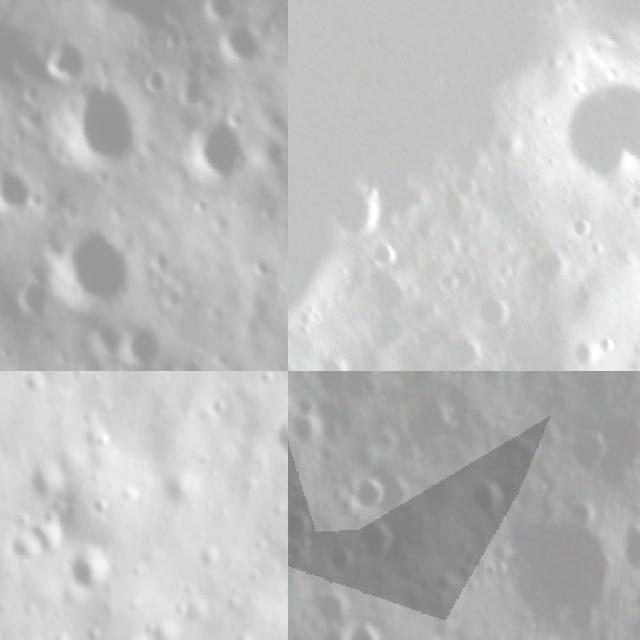crater: (496, 501, 626, 637), (67, 87, 139, 166), (53, 238, 130, 307), (322, 170, 393, 243), (187, 109, 238, 185), (560, 418, 616, 484), (354, 517, 405, 571), (468, 283, 512, 339), (66, 549, 119, 595), (304, 582, 355, 628), (524, 239, 570, 288), (342, 470, 389, 516), (565, 323, 609, 371), (288, 408, 331, 457), (611, 515, 640, 586), (217, 28, 262, 71), (438, 173, 480, 215), (34, 42, 82, 78), (7, 281, 50, 321), (288, 499, 319, 553), (121, 329, 165, 367), (423, 263, 463, 301), (318, 537, 358, 575), (564, 208, 604, 245), (620, 440, 640, 511), (0, 162, 26, 211), (362, 240, 402, 270), (344, 616, 390, 640), (141, 60, 164, 100), (315, 349, 352, 371), (195, 0, 235, 18), (584, 234, 605, 265), (245, 257, 274, 279), (90, 493, 114, 517), (275, 414, 288, 455), (148, 249, 172, 270), (278, 589, 288, 620), (288, 633, 319, 640)
